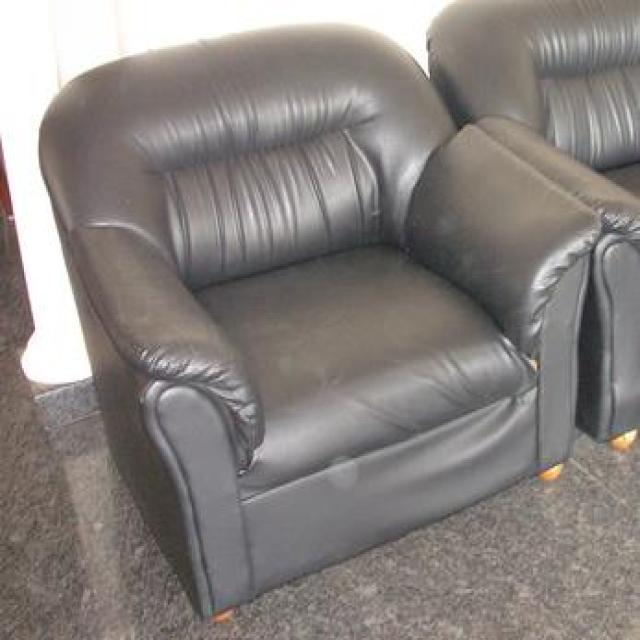sofa: (37, 0, 640, 624)
